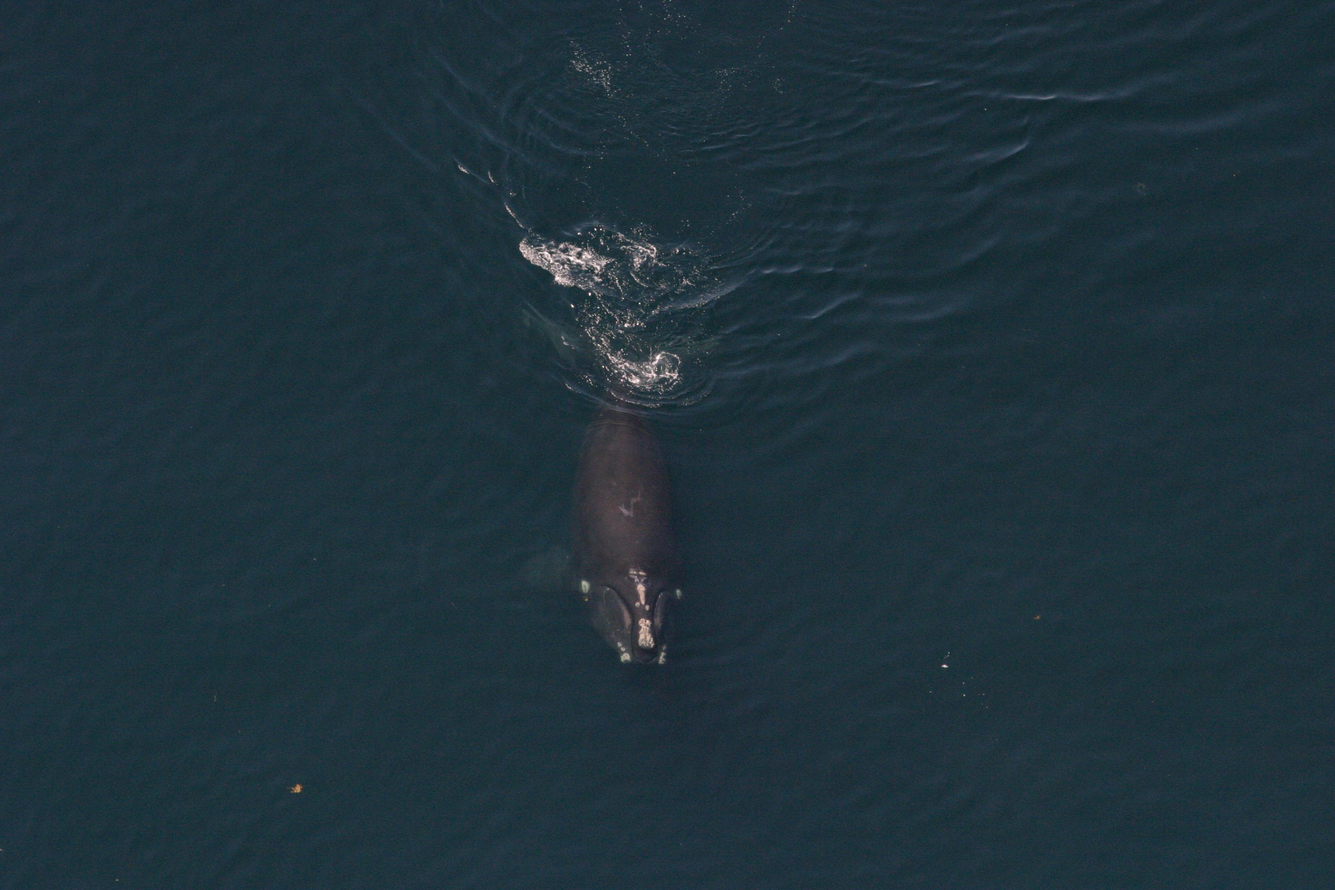whale: (503, 334, 719, 672)
